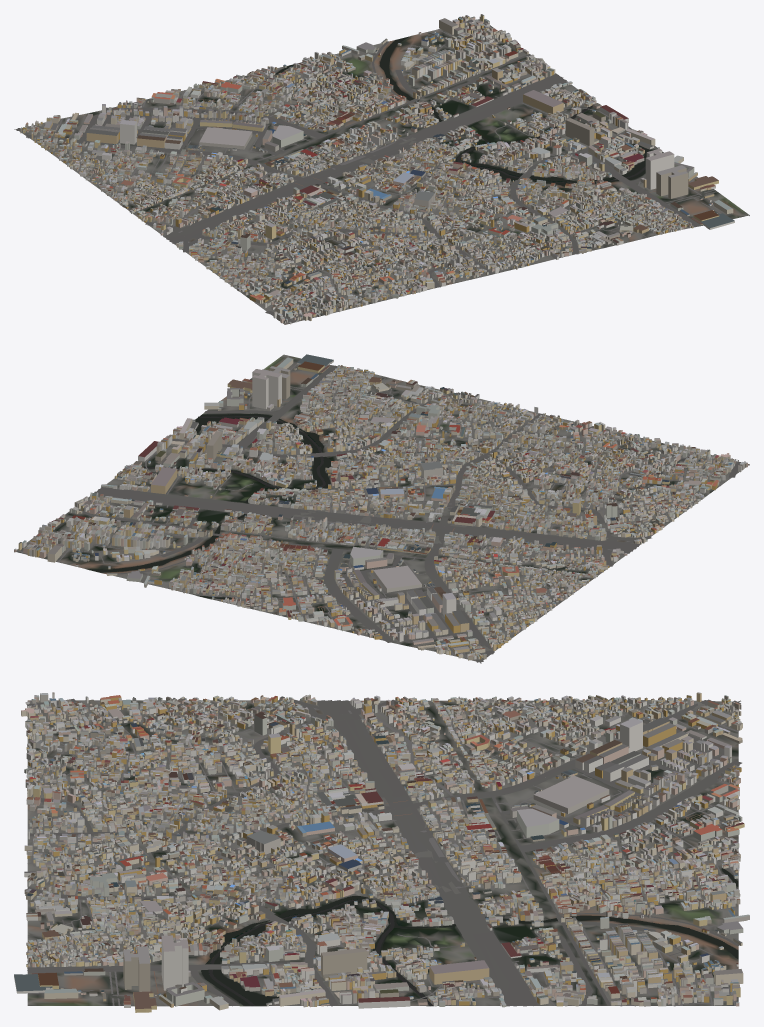
The picture shows the model from 3 angles, top to bottom: view 1: azimuth 30°, elevation 25°; view 2: azimuth 150°, elevation 25°; view 3: azimuth 270°, elevation 25°; orthographic projection. The views are drawn at different scales.
Parts seen in each view (by area): view 1: buildings, ground, roads, water; view 2: buildings, ground, roads, water; view 3: buildings, ground, roads, water.
Part boxes in pixels (x1,y1,x2,y2): buildings: [20, 14, 734, 324]; ground: [19, 19, 749, 324]; roads: [14, 20, 721, 323]; water: [275, 36, 663, 186]; buildings: [14, 354, 747, 660]; ground: [14, 354, 749, 661]; roads: [17, 363, 748, 663]; water: [88, 413, 331, 598]; buildings: [14, 692, 749, 1012]; ground: [27, 700, 738, 1006]; roads: [27, 698, 741, 1006]; water: [201, 868, 738, 1006].
Bounding box in the file's own units: 1437 × 88.13 × 1449.
